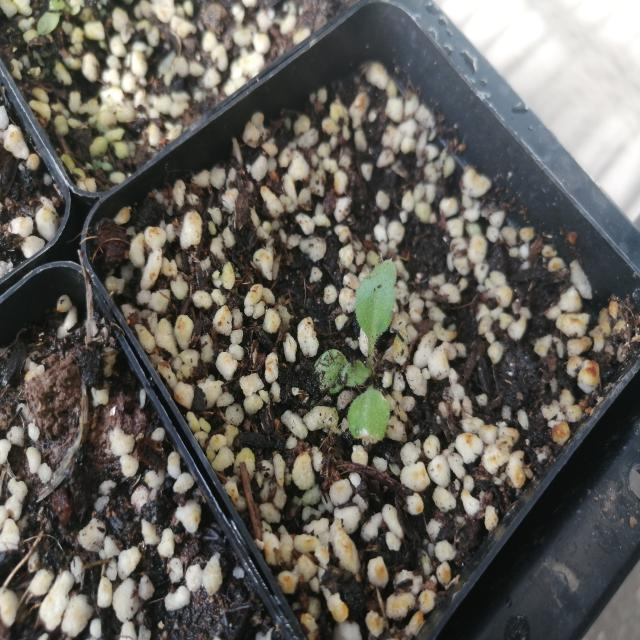field_thistle: (313, 237, 424, 471)
